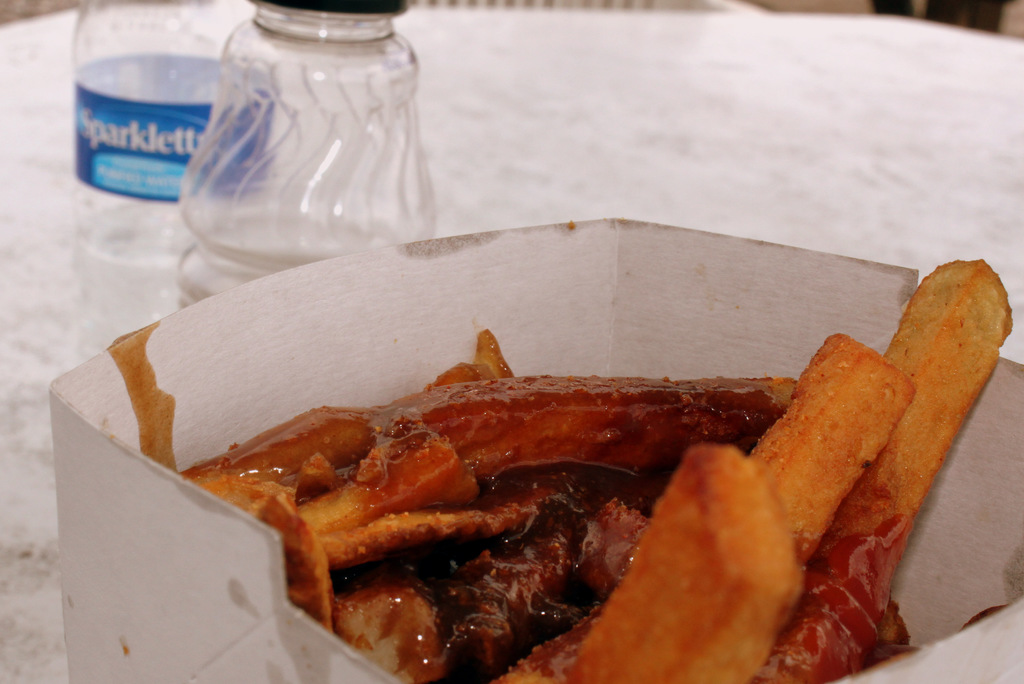French fries: (179, 254, 1020, 683)
